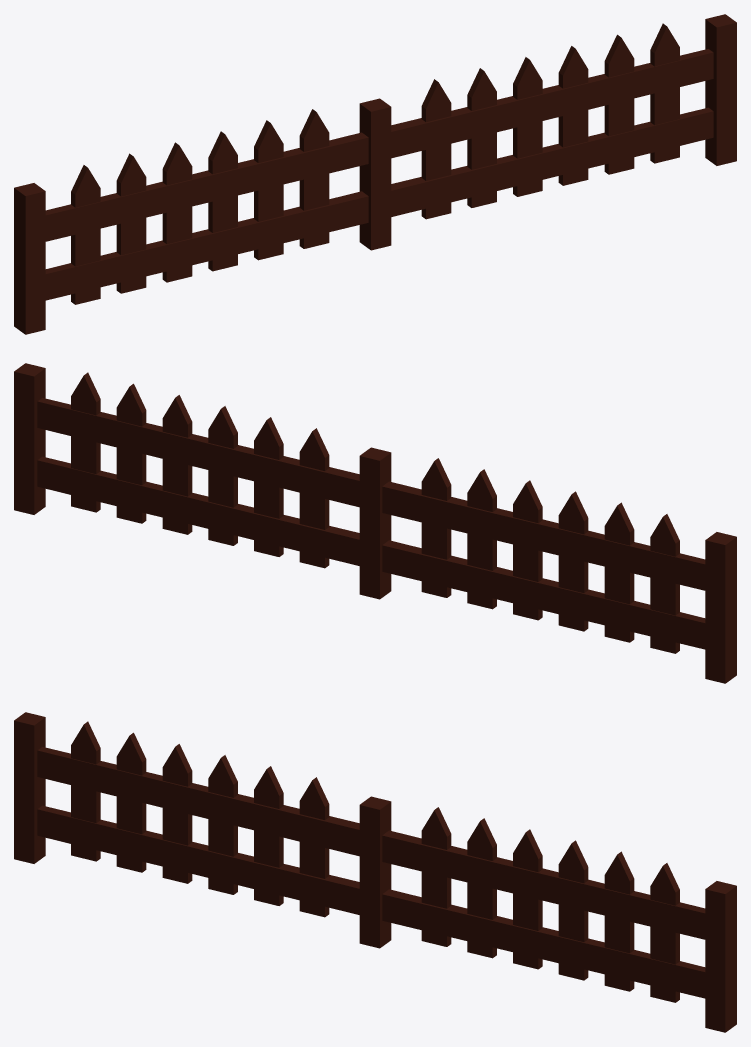
Rendered from fence.obj.
3 renders of one model, top to bottom at view 1: azimuth 30°, elevation 25°; view 2: azimuth 150°, elevation 25°; view 3: azimuth 330°, elevation 25°, orthographic.
Visible parts, largest first — view 1: Fence2_Cube.024; view 2: Fence2_Cube.024; view 3: Fence2_Cube.024.
Part boxes in pixels (<box>): Fence2_Cube.024: <box>14,14,736,334</box>; Fence2_Cube.024: <box>14,363,736,683</box>; Fence2_Cube.024: <box>14,712,736,1032</box>.
Bounding box in the file's own units: 5.89 × 1.17 × 0.1655.
